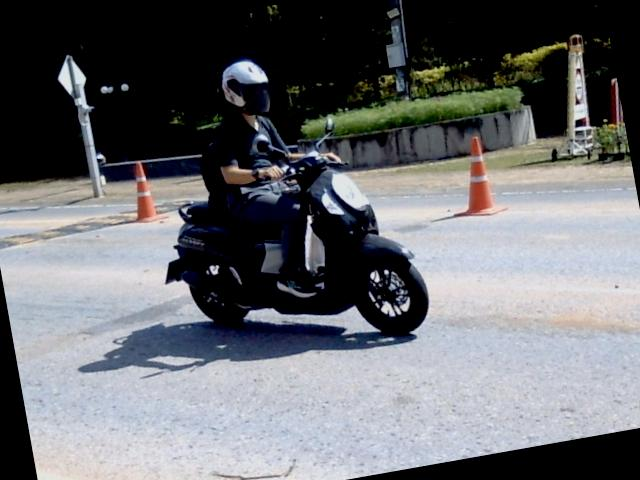helmet: (219, 56, 270, 114)
motor: (164, 118, 427, 334)
person: (212, 59, 322, 297)
